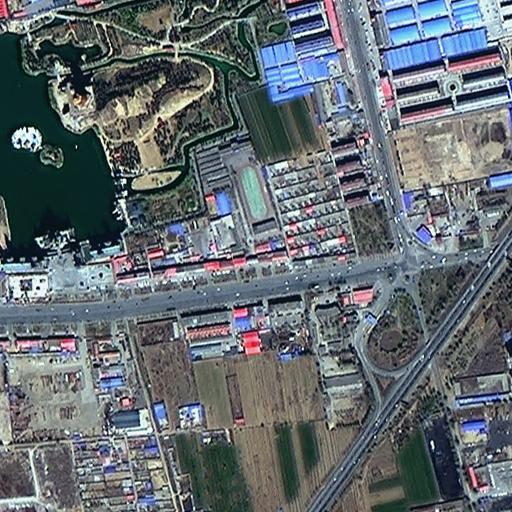school: (193, 134, 281, 252)
